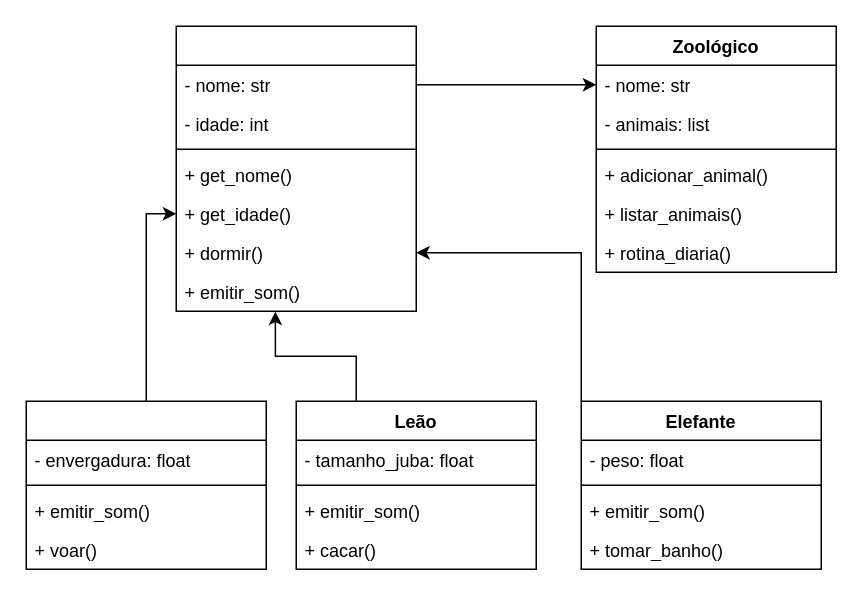
The diagram is 863 pixels wide and 600 high, and some of its shapes have lost their labels. Each missing label, with the box of its shape:
Animal: (175, 25, 416, 311)
Ave: (25, 400, 266, 569)
